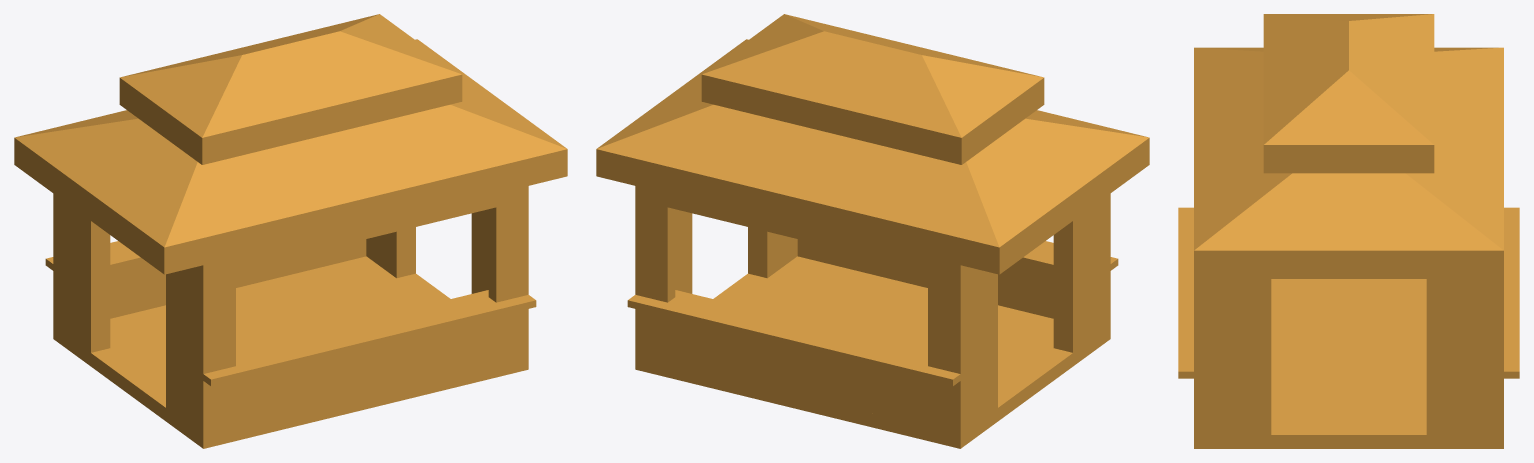
The model's file is bar-tropic.fbx.
The picture shows the model from 3 angles, left to right: view 1: azimuth 30°, elevation 25°; view 2: azimuth 150°, elevation 25°; view 3: azimuth 270°, elevation 25°; orthographic projection. The views are drawn at different scales.
Parts seen in each view (by area): view 1: bar-tropic; view 2: bar-tropic; view 3: bar-tropic.
Boxes of the visible parts, left/top/right/bottom form: bar-tropic: left=14, top=14, right=567, bottom=448; bar-tropic: left=596, top=14, right=1149, bottom=448; bar-tropic: left=1178, top=14, right=1519, bottom=448.
Bounding box in the file's own units: 6.2 × 4.57 × 4.4.
